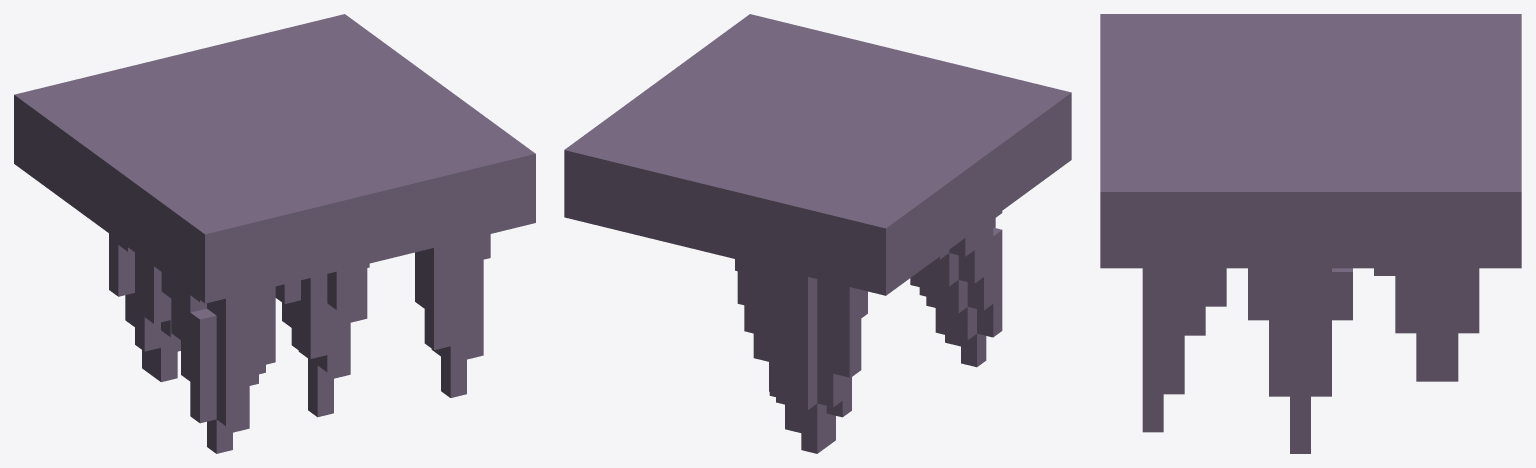
The model's file is Floors-1.obj.
3 renders of one model, left to right at view 1: azimuth 30°, elevation 25°; view 2: azimuth 150°, elevation 25°; view 3: azimuth 270°, elevation 25°, orthographic. The views are drawn at different scales.
Bounding box in the file's own units: 2 × 1.7 × 2.
Materials: 1 (1 with a texture image).
